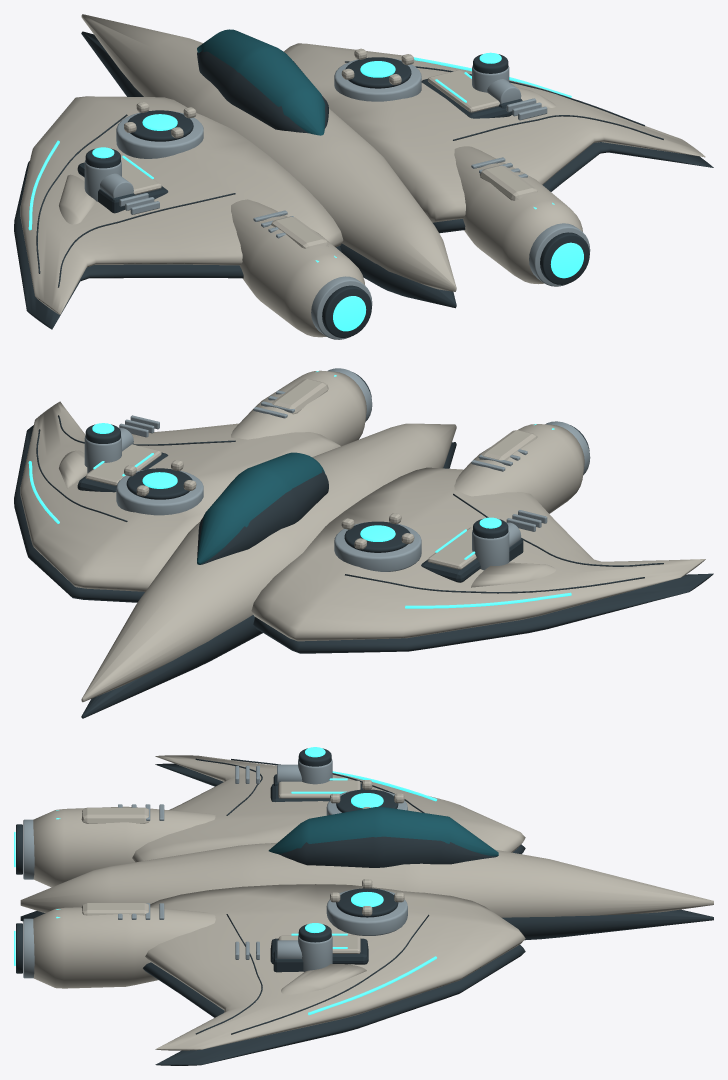
The model's file is escort-0.glb.
3 views of the same model, one above another, from view 1: azimuth 30°, elevation 25°; view 2: azimuth 150°, elevation 25°; view 3: azimuth 270°, elevation 25° (orthographic). The views are drawn at different scales.
Parts seen in each view (by area): view 1: SM_Hull, SM_Wing_Left, SM_Wing_Right, SM_Engine_Left, SM_Engine_Right, SM_Shield_Left, SM_Shield_Right, SM_Stage03, SM_Stage04, SM_Stage01, SM_Stage02, SM_Bay_Right (+1 smaller); view 2: SM_Wing_Left, SM_Hull, SM_Wing_Right, SM_Engine_Left, SM_Engine_Right, SM_Shield_Left, SM_Shield_Right, SM_Stage04, SM_Stage03, SM_Stage02, SM_Bay_Right, SM_Bay_Left (+1 smaller); view 3: SM_Hull, SM_Wing_Right, SM_Wing_Left, SM_Engine_Right, SM_Engine_Left, SM_Shield_Right, SM_Stage04, SM_Stage03, SM_Shield_Left, SM_Stage02, SM_Stage01, SM_Bay_Left (+1 smaller).
Part boxes in pixels (left/top/right/bottom): SM_Hull: left=77, top=14, right=511, bottom=308; SM_Wing_Left: left=14, top=96, right=343, bottom=329; SM_Wing_Right: left=283, top=43, right=713, bottom=233; SM_Engine_Left: left=231, top=199, right=372, bottom=339; SM_Engine_Right: left=454, top=146, right=590, bottom=286; SM_Shield_Left: left=116, top=102, right=203, bottom=158; SM_Shield_Right: left=334, top=48, right=421, bottom=101; SM_Stage03: left=119, top=98, right=547, bottom=248; SM_Stage04: left=84, top=52, right=509, bottom=201; SM_Stage01: left=98, top=79, right=522, bottom=213; SM_Stage02: left=59, top=87, right=555, bottom=224; SM_Bay_Right: left=427, top=70, right=499, bottom=112; SM_Wing_Left: left=251, top=467, right=713, bottom=653; SM_Hull: left=77, top=423, right=480, bottom=718; SM_Wing_Right: left=14, top=401, right=340, bottom=602; SM_Engine_Left: left=454, top=421, right=590, bottom=513; SM_Engine_Right: left=231, top=368, right=372, bottom=446; SM_Shield_Left: left=334, top=513, right=421, bottom=571; SM_Shield_Right: left=116, top=460, right=203, bottom=515; SM_Stage04: left=84, top=423, right=509, bottom=570; SM_Stage03: left=119, top=379, right=547, bottom=531; SM_Stage02: left=59, top=450, right=555, bottom=587; SM_Bay_Right: left=85, top=444, right=161, bottom=485; SM_Bay_Left: left=427, top=527, right=476, bottom=569; SM_Hull: left=20, top=778, right=713, bottom=964; SM_Wing_Right: left=143, top=884, right=525, bottom=1065; SM_Wing_Left: left=132, top=755, right=525, bottom=862; SM_Engine_Right: left=14, top=903, right=215, bottom=988; SM_Engine_Left: left=14, top=804, right=215, bottom=887; SM_Shield_Right: left=326, top=879, right=407, bottom=935; SM_Stage04: left=298, top=747, right=332, bottom=971; SM_Stage03: left=81, top=765, right=259, bottom=959; SM_Shield_Left: left=326, top=780, right=407, bottom=815; SM_Stage02: left=281, top=777, right=366, bottom=994; SM_Stage01: left=273, top=764, right=303, bottom=972; SM_Bay_Left: left=278, top=780, right=360, bottom=798.
Bounding box in the file's own units: 8.2 × 1.6 × 8.08.
